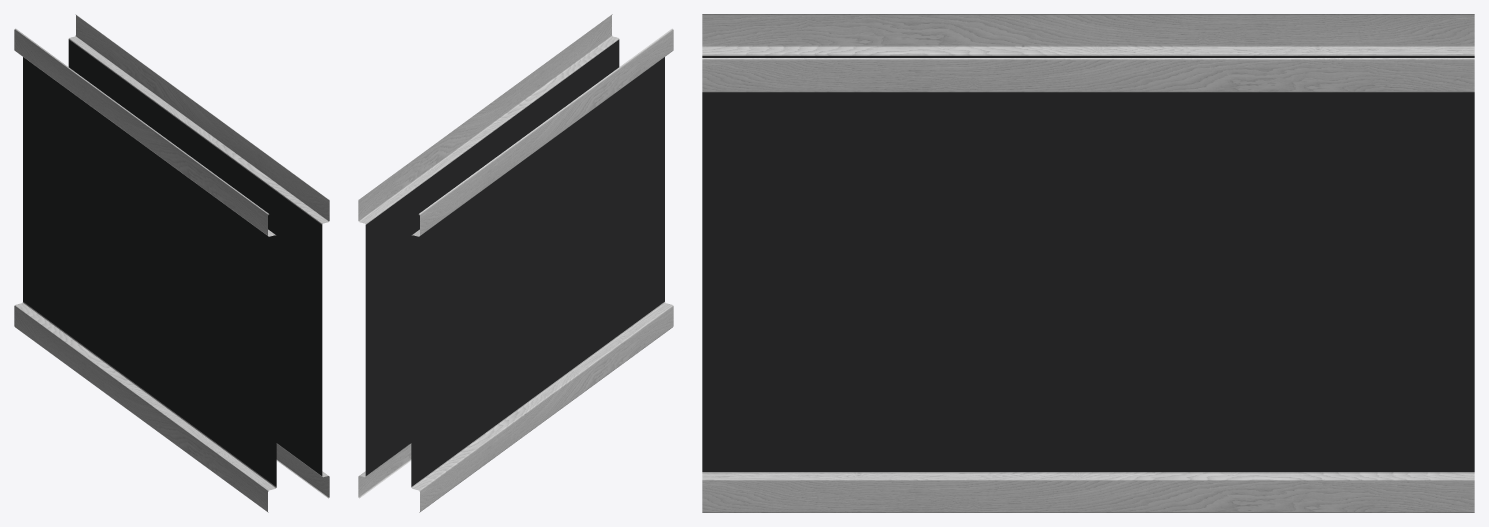
Rendered from Wall.fbx.
The picture shows the model from 3 angles, left to right: view 1: azimuth 30°, elevation 25°; view 2: azimuth 150°, elevation 25°; view 3: azimuth 270°, elevation 25°; orthographic projection. The views are drawn at different scales.
Visible parts, largest first — view 1: pCube37; view 2: pCube37; view 3: pCube37.
Boxes of the visible parts, x1,y1,x2,y2 form: pCube37: (14,14,329,512); pCube37: (358,14,673,512); pCube37: (702,14,1474,512).
Bounding box in the file's own units: 55.99 × 260 × 400.
